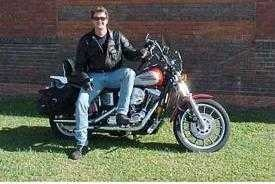motorcycle: (40, 40, 230, 153)
